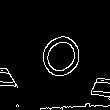O_SW: (25, 23, 85, 87)
